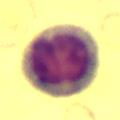lymphocyte: (23, 23, 100, 97)
